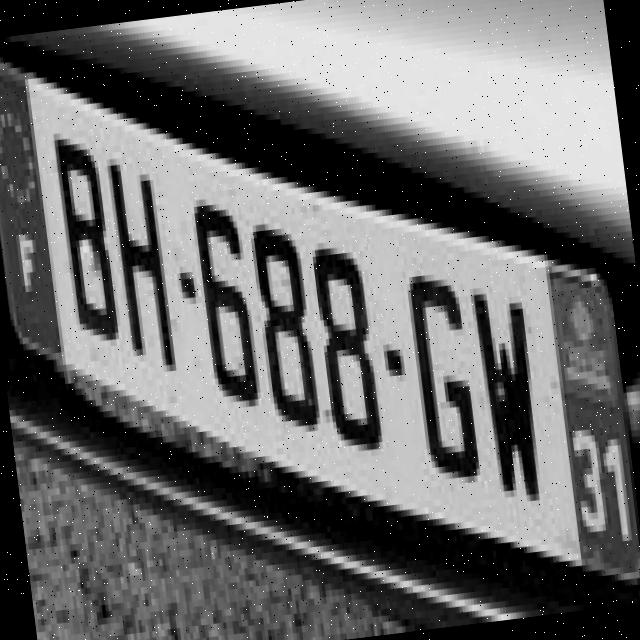EU: (0, 72, 640, 578)
France: (0, 70, 61, 358)
